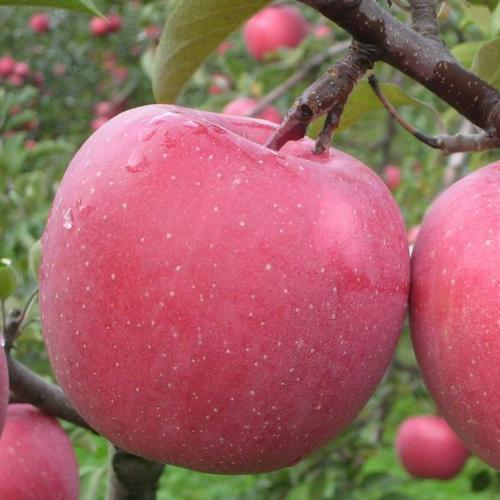apple: (33, 108, 410, 474)
